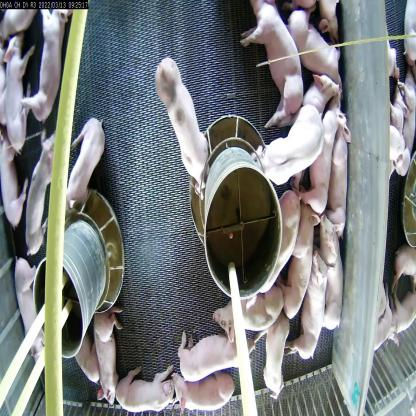Pig: (153, 46, 205, 184), (56, 107, 113, 220), (253, 98, 325, 186), (17, 130, 62, 266), (23, 1, 70, 121), (0, 33, 37, 151), (294, 250, 327, 378), (288, 208, 322, 332), (14, 252, 46, 382), (249, 0, 295, 89), (88, 306, 126, 406), (318, 228, 352, 334), (305, 92, 334, 209), (0, 124, 30, 234), (120, 371, 182, 415), (273, 309, 298, 415), (170, 377, 238, 415), (179, 340, 238, 380), (273, 198, 297, 292), (219, 296, 266, 340)
